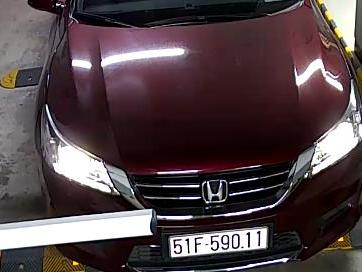car: (169, 227, 270, 258)
